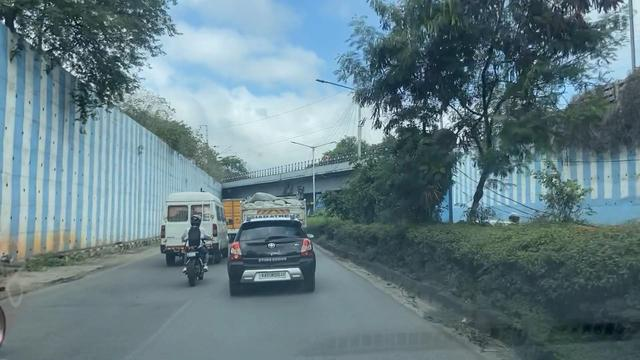HMV: (158, 193, 224, 267)
LMV: (223, 222, 317, 300), (175, 211, 209, 294)
